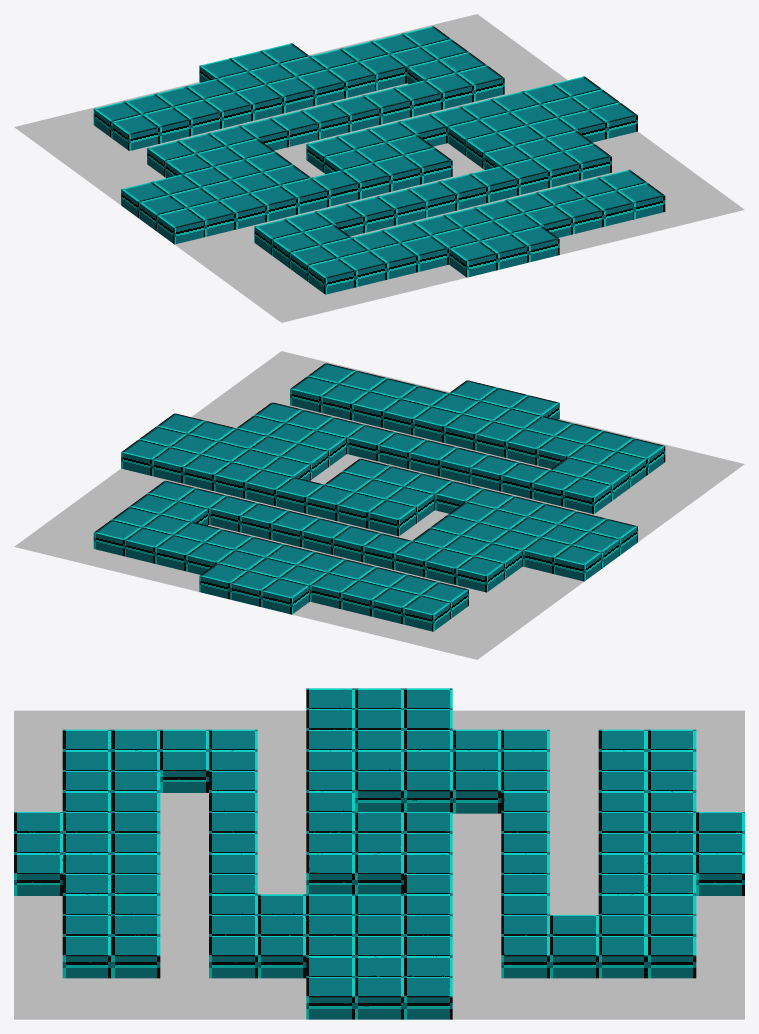
The model's file is Dungeon Floor NSU.fbx.
The picture shows the model from 3 angles, top to bottom: view 1: azimuth 30°, elevation 25°; view 2: azimuth 150°, elevation 25°; view 3: azimuth 270°, elevation 25°; orthographic projection. The views are drawn at different scales.
Parts seen in each view (by area): view 1: 3DGeom~1, 3DGeom~2; view 2: 3DGeom~1, 3DGeom~2; view 3: 3DGeom~1, 3DGeom~2.
Part boxes in pixels (bbox=[...]): 3DGeom~1: bbox=[93, 26, 665, 294]; 3DGeom~2: bbox=[14, 14, 744, 322]; 3DGeom~1: bbox=[93, 363, 665, 631]; 3DGeom~2: bbox=[14, 351, 744, 659]; 3DGeom~1: bbox=[14, 688, 744, 1019]; 3DGeom~2: bbox=[14, 710, 744, 1019].
Size of the model in its own units: 15 by 15 by 0.5.
